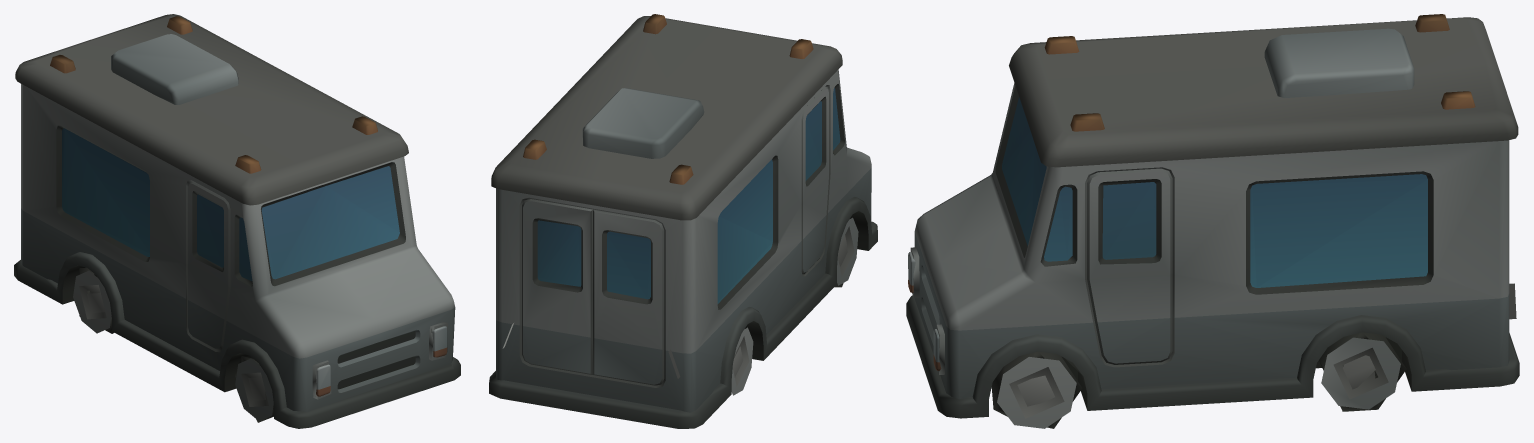
File: ct_van.glb
3 renders of one model, left to right at view 1: azimuth 30°, elevation 25°; view 2: azimuth 150°, elevation 25°; view 3: azimuth 270°, elevation 25°, orthographic. The views are drawn at different scales.
Parts seen in each view (by area): view 1: ct_van; view 2: ct_van; view 3: ct_van.
Boxes of the visible parts, left/top/right/bottom form: ct_van: left=14, top=14, right=460, bottom=428; ct_van: left=489, top=14, right=877, bottom=428; ct_van: left=906, top=14, right=1519, bottom=428.
Size of the model in its own units: 2.92 by 2.95 by 5.25.
